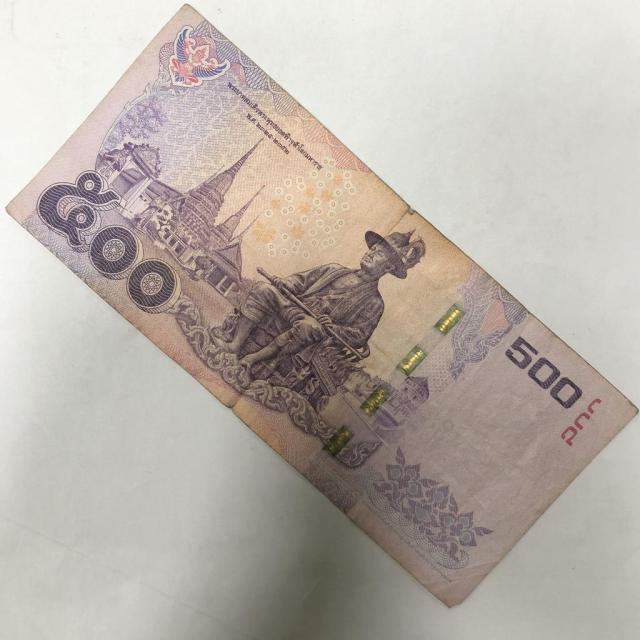THAI500: (6, 4, 639, 612)
